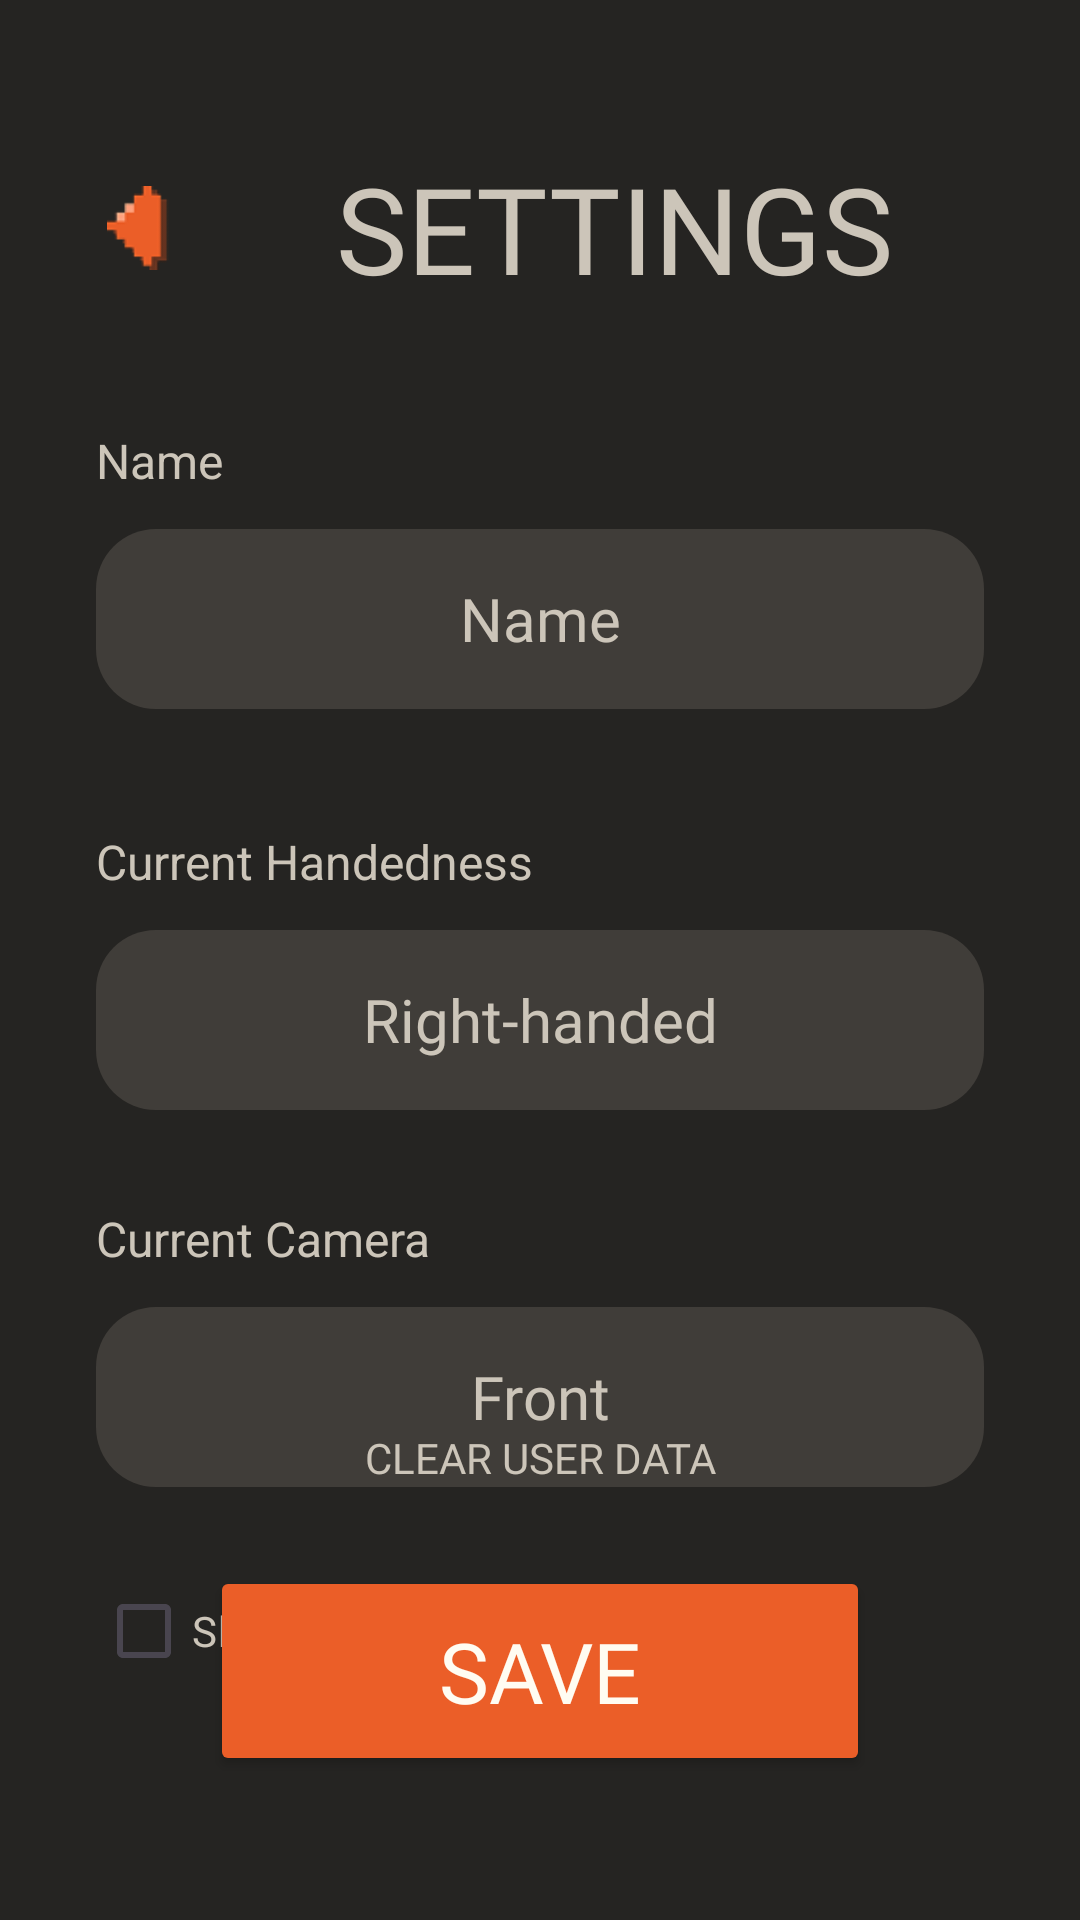

Where icons sit on this 1080px×1920px app screen, as {"left": x1, "top": y1, "right": x2, "bottom": y2}:
back: {"left": 107, "top": 186, "right": 167, "bottom": 270}
